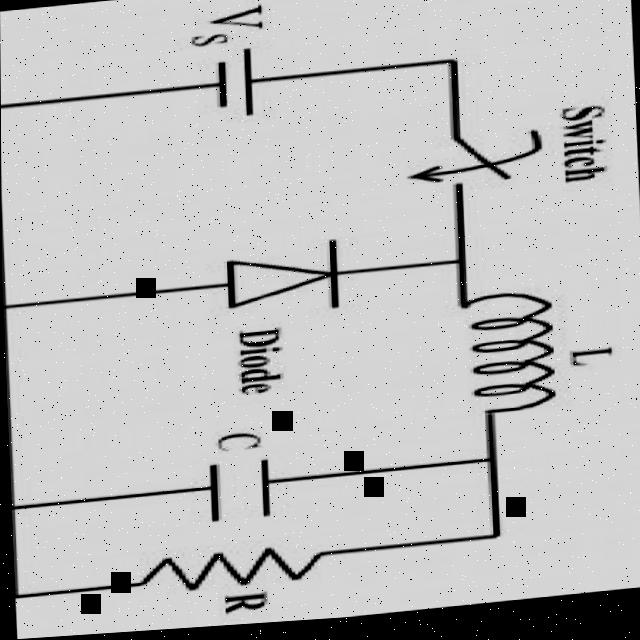diode: (186, 231, 360, 339)
inductor: (404, 283, 574, 445)
resistor: (114, 537, 345, 605)
source: (168, 41, 294, 143), (165, 448, 304, 538)
switch: (396, 106, 562, 233)
